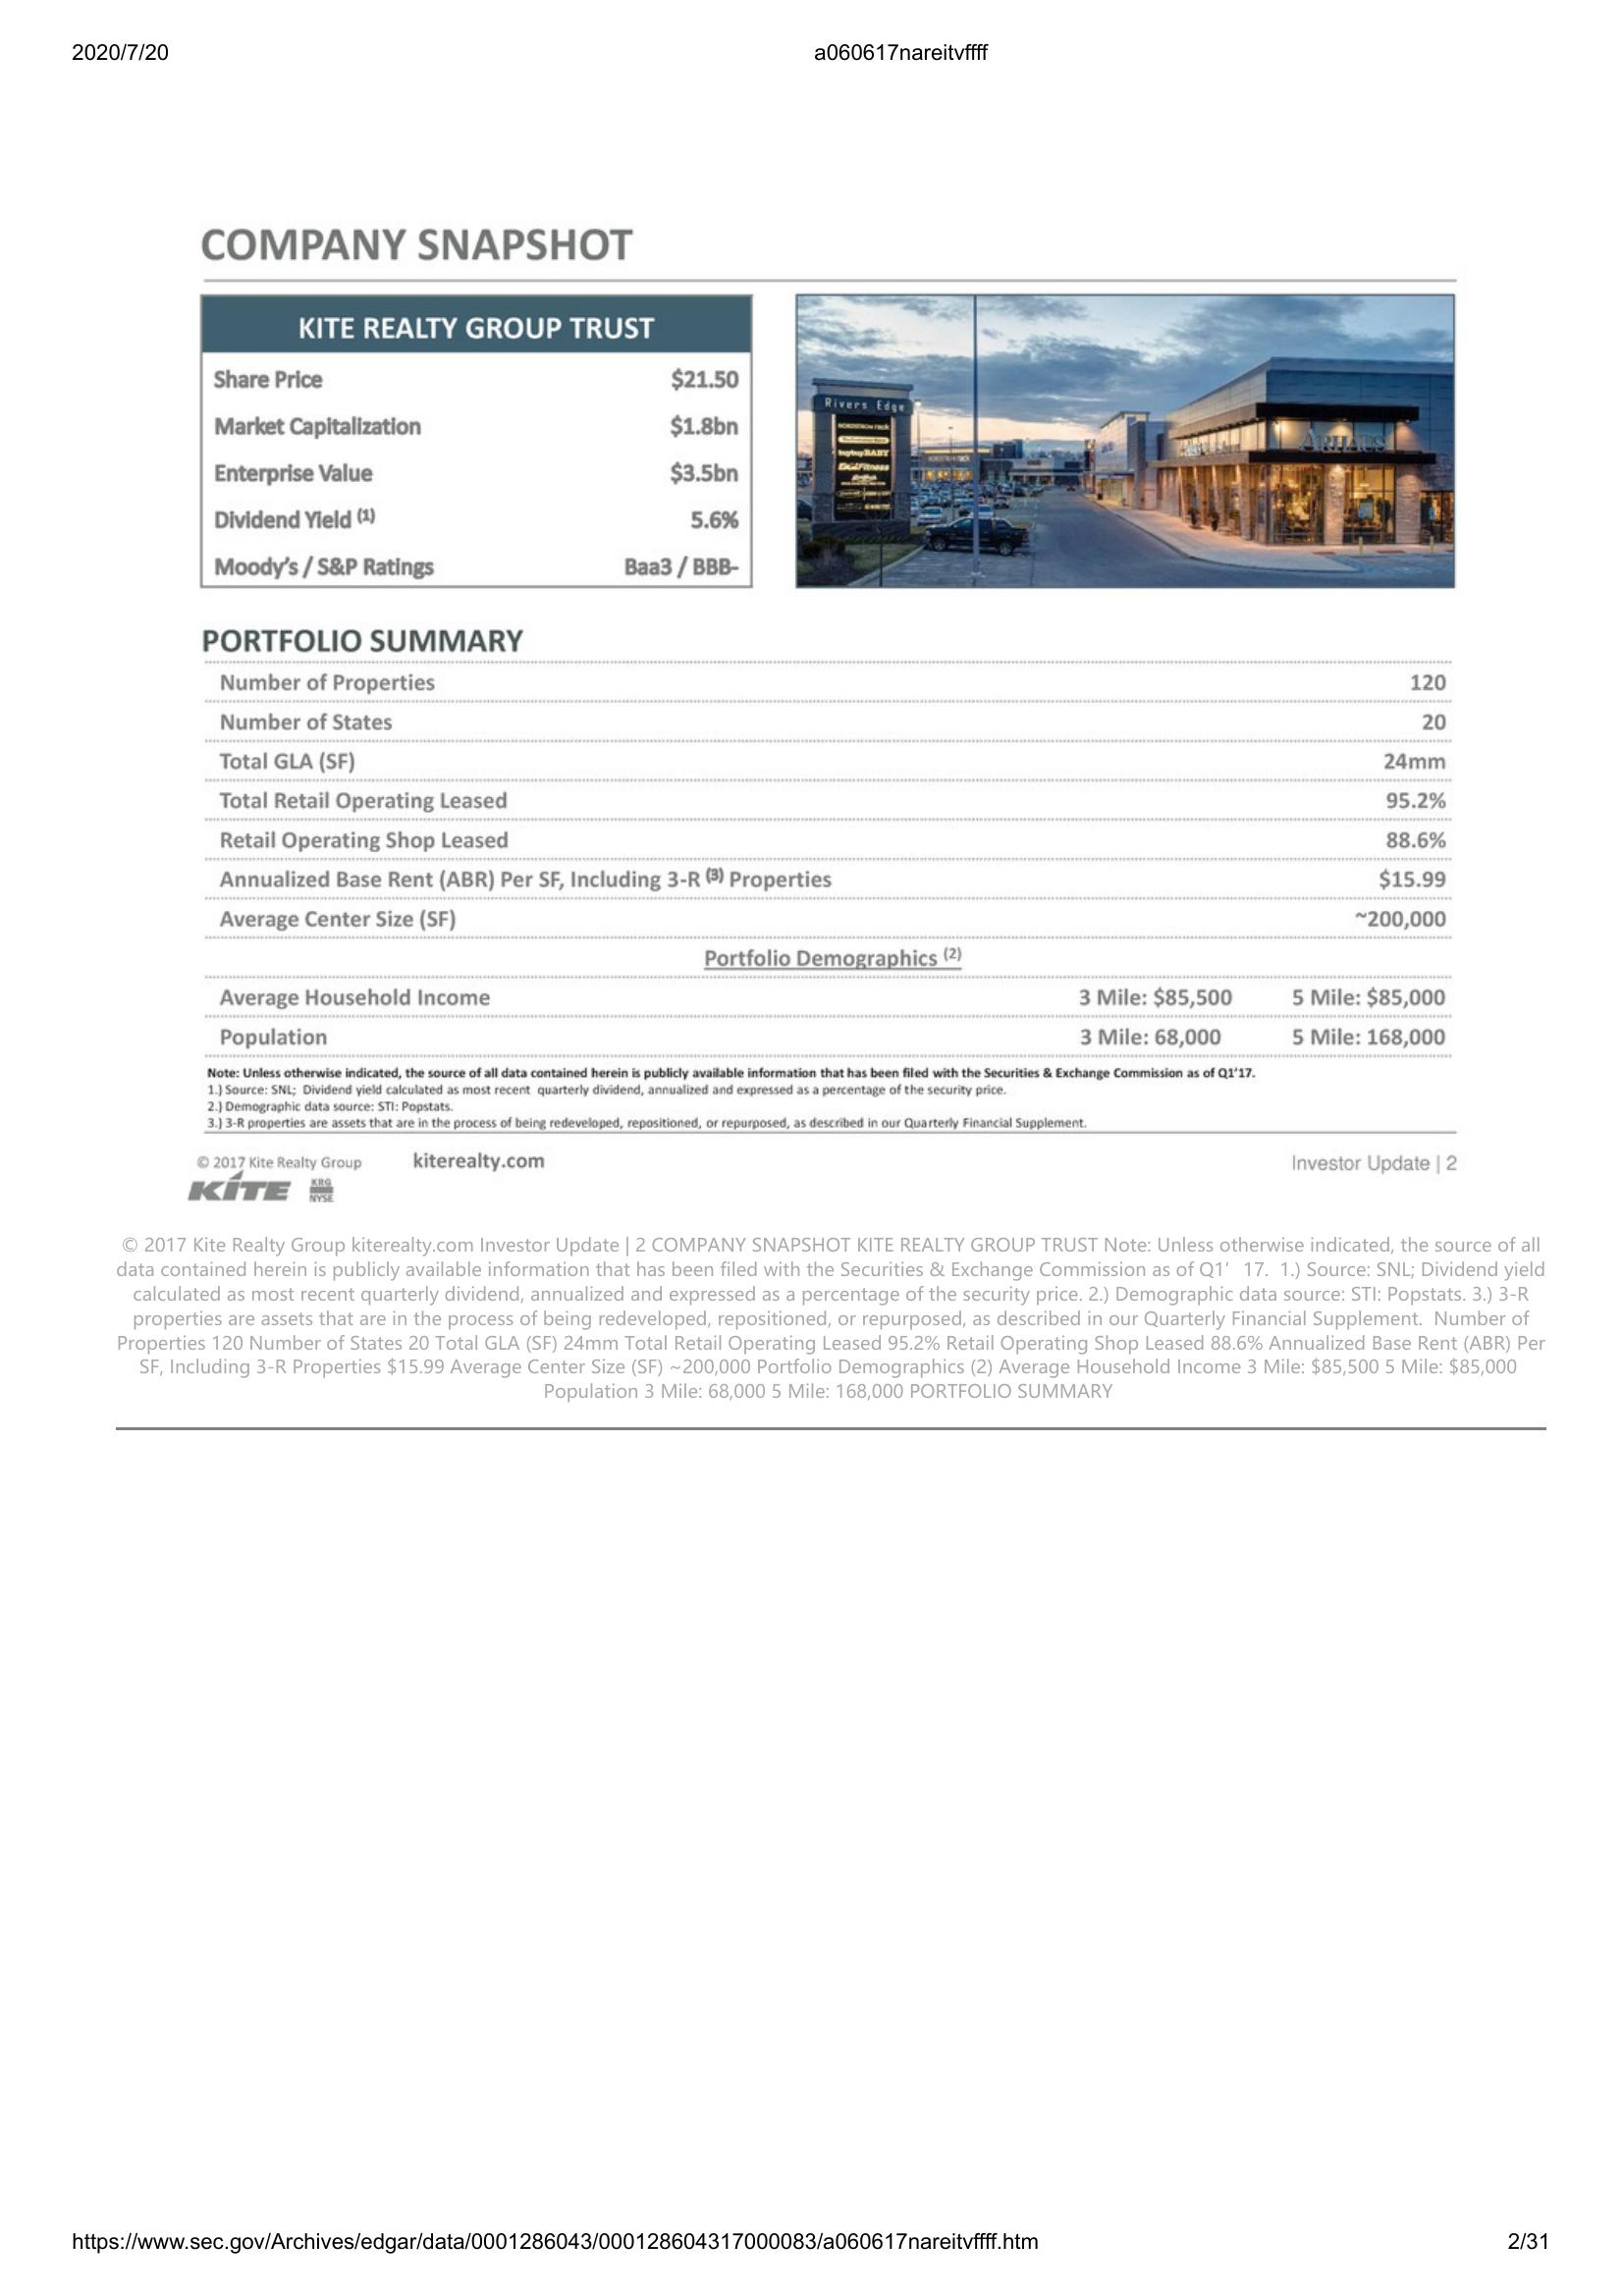table: (193, 618, 1461, 1058), (188, 281, 762, 593)
